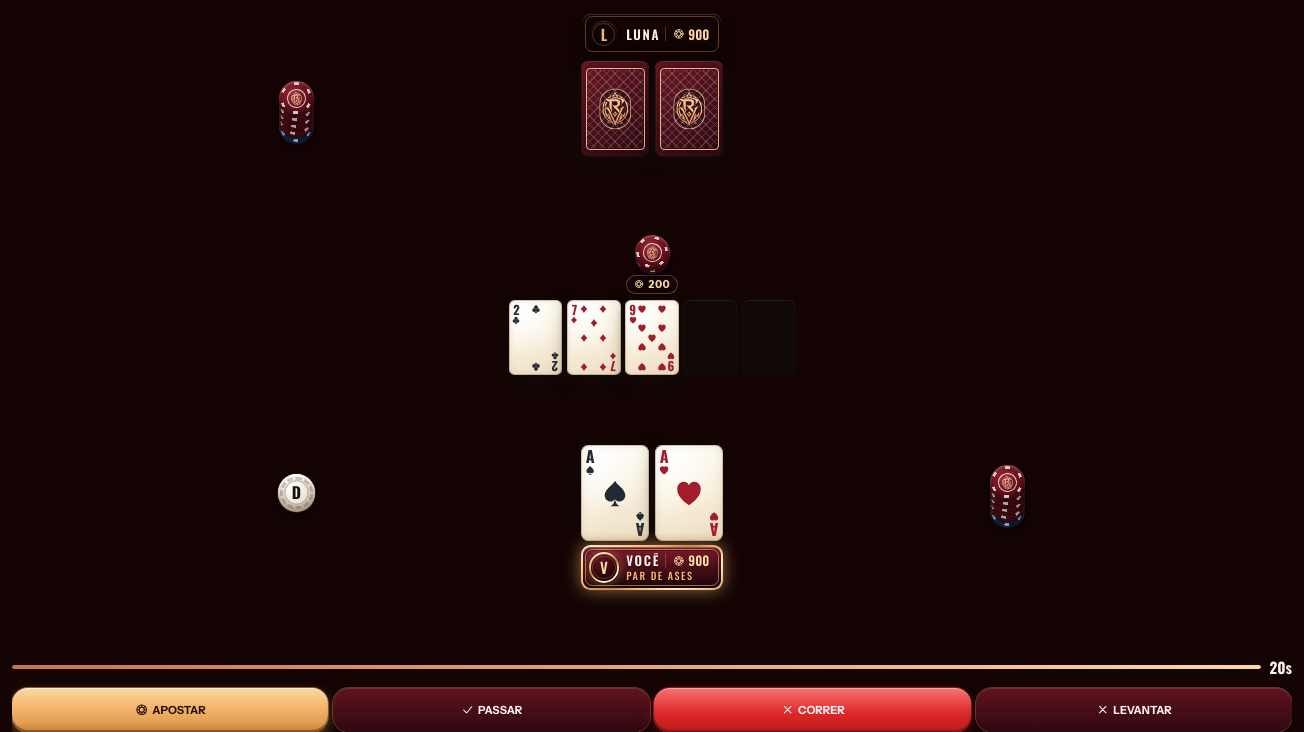
PokerArena — a barra de apostas › os atalhos nunca somam além do teto da mesa
Click the button with test id "action-raise".
click(170, 710)  # box [12,688,328,731]
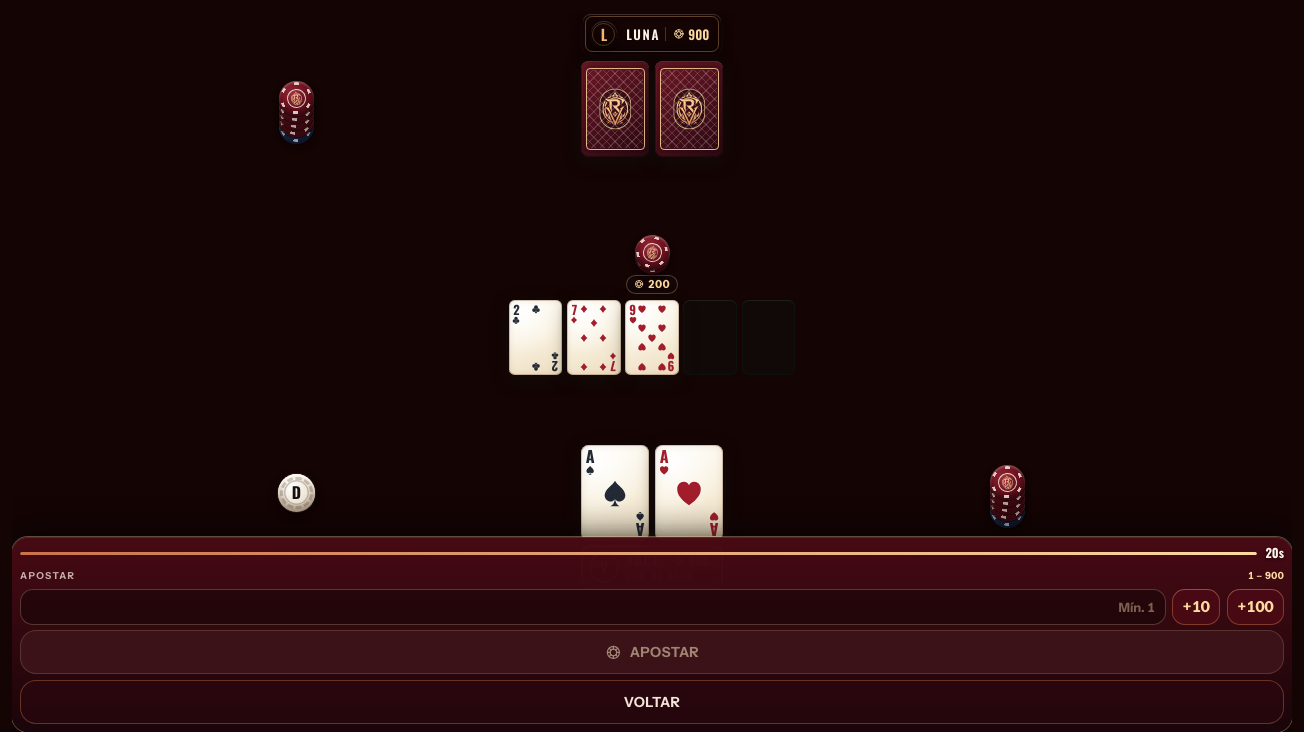
Type "880" into the field with test id "raise-input".
click(593, 607); type("880")  # box [20,589,1166,625]
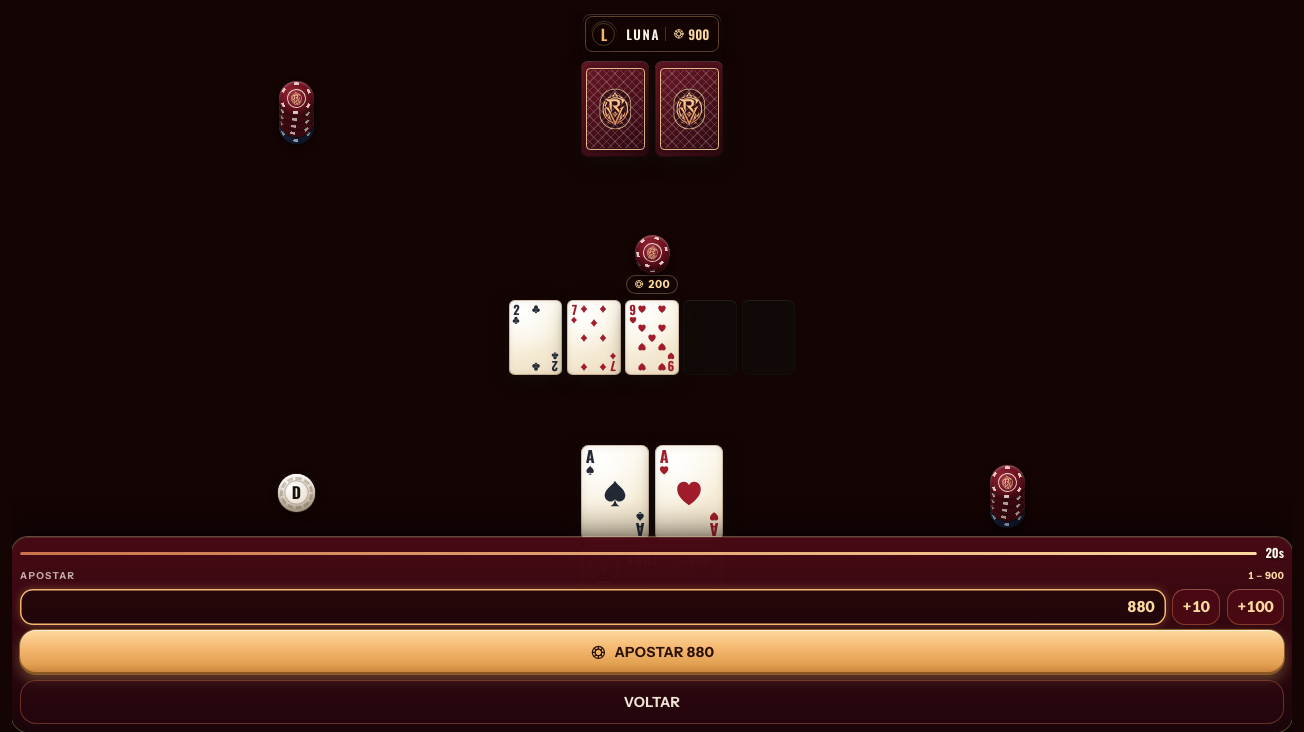
Click the button with test id "raise-plus-100".
click(1255, 607)  # box [1227,589,1284,625]
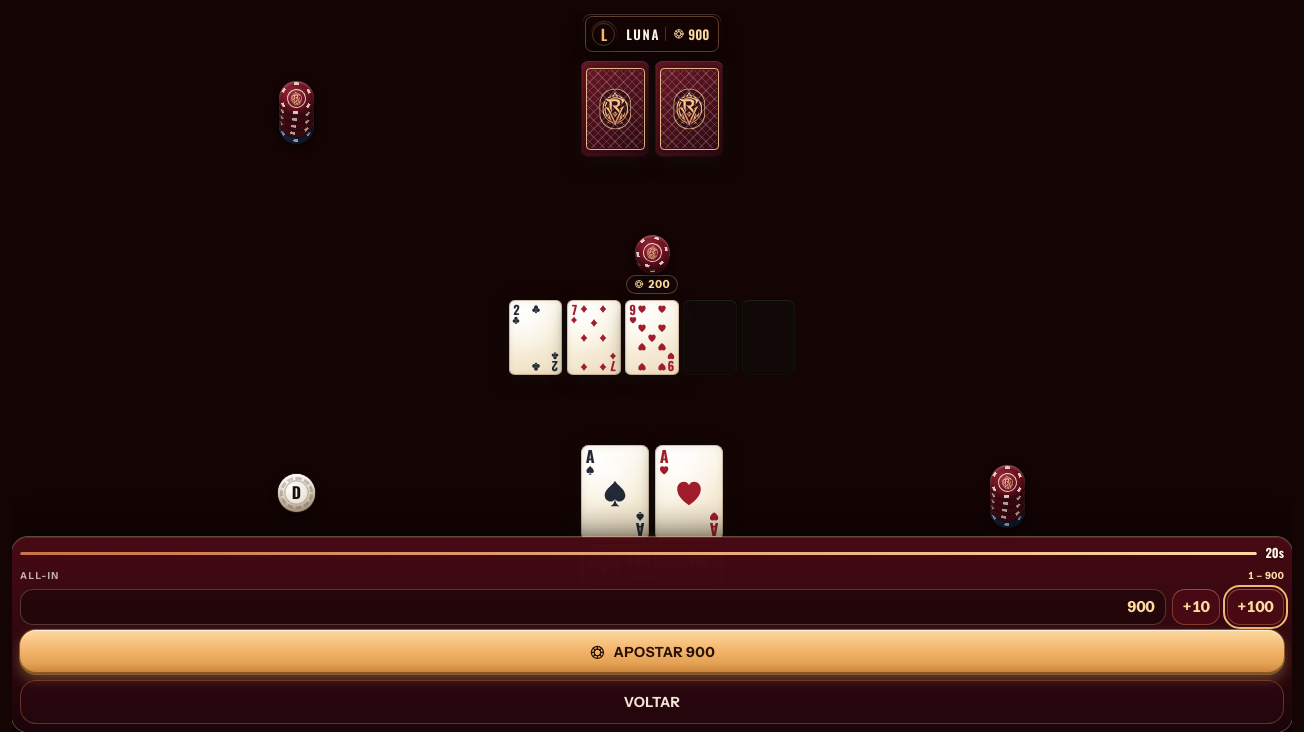
Expected: the field named "Quanto apostar a mais, em créditos" holds "900", [20,589,1166,625]
